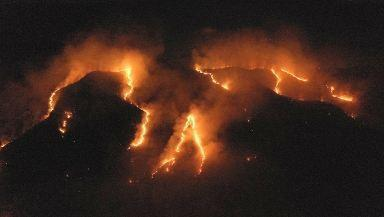fire: (37, 64, 154, 147), (192, 52, 354, 107), (163, 111, 206, 175)
